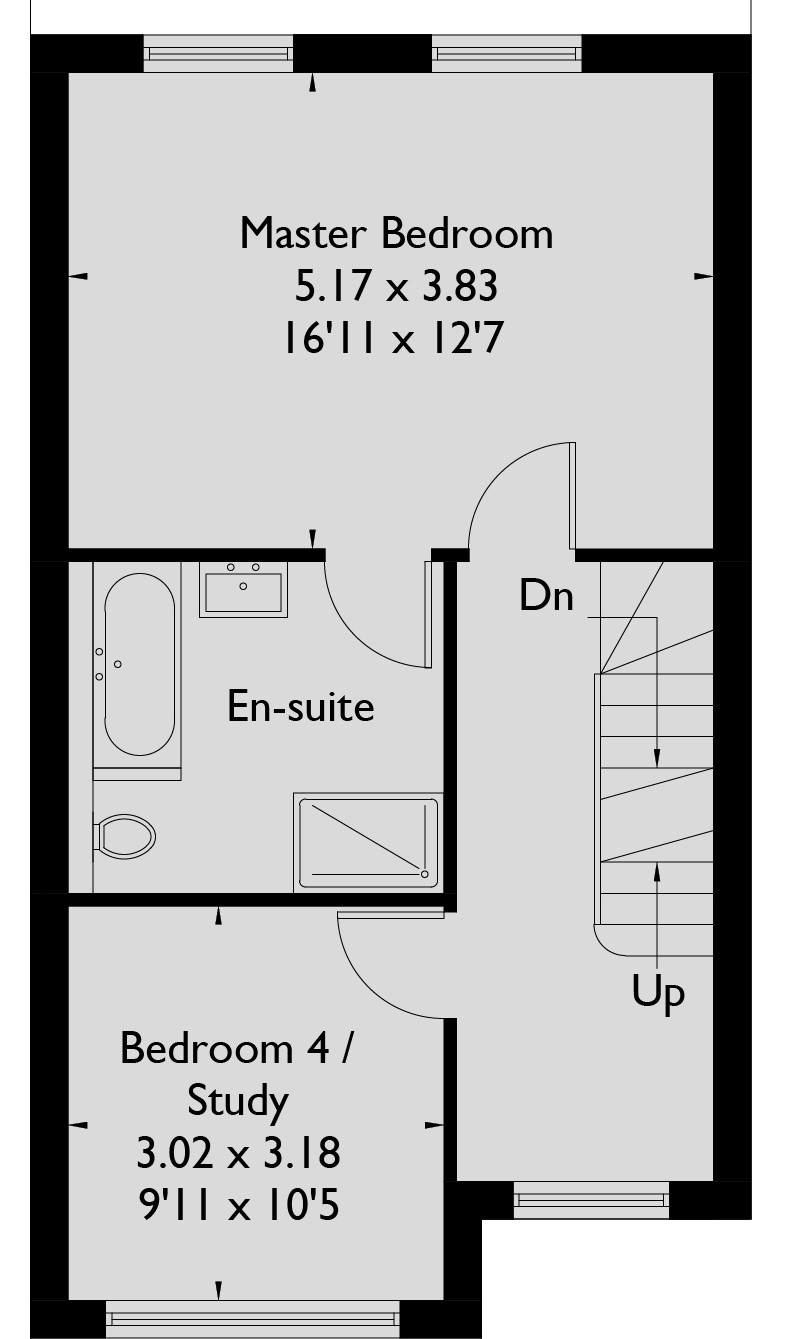wall: (30, 30, 71, 1338), (710, 36, 753, 1213), (440, 546, 461, 907), (436, 1185, 485, 1334), (295, 34, 432, 75), (585, 34, 716, 71), (69, 893, 457, 905), (32, 32, 142, 71), (669, 1181, 751, 1224), (397, 1301, 487, 1336), (32, 1299, 107, 1339), (440, 1013, 457, 1185), (444, 1183, 512, 1222), (63, 550, 322, 560), (577, 548, 714, 562), (434, 544, 469, 560)
